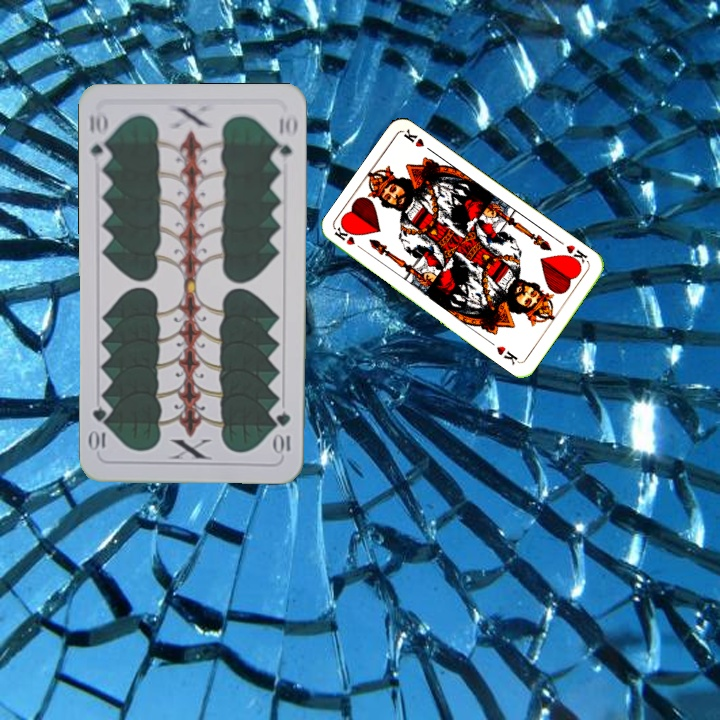G10: (85, 109, 112, 168), (272, 407, 293, 457)
HK: (331, 223, 368, 255), (561, 241, 591, 269)
